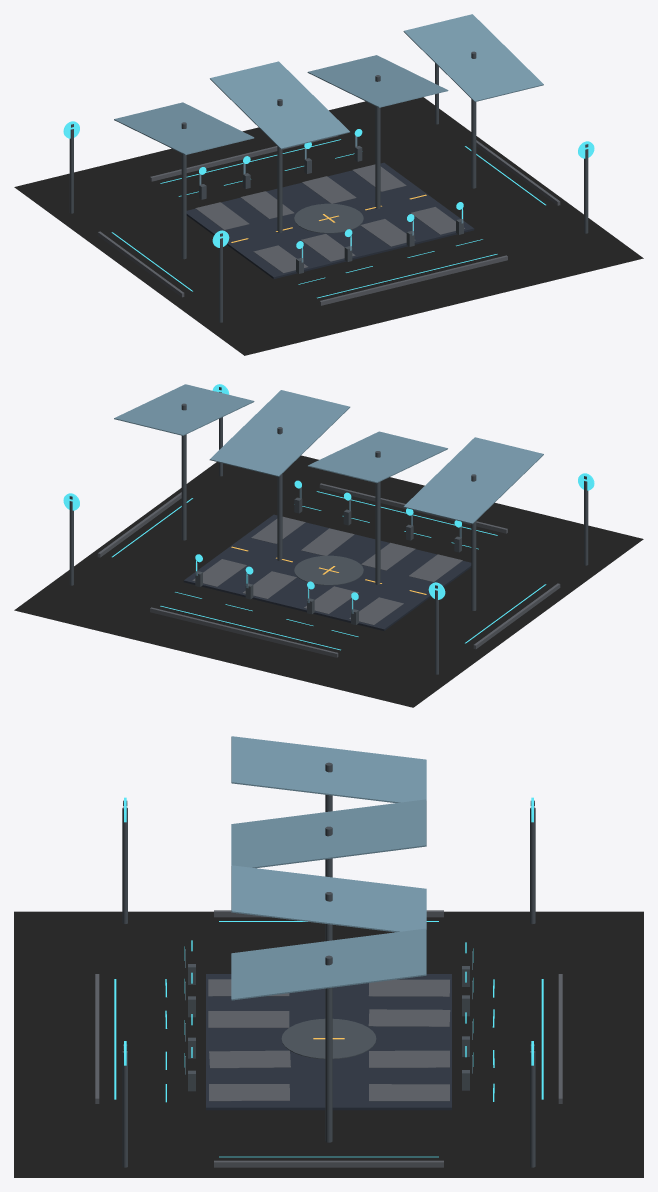
Rendered from shop_parking_lot.glb.
3 renders of one model, top to bottom at view 1: azimuth 30°, elevation 25°; view 2: azimuth 150°, elevation 25°; view 3: azimuth 270°, elevation 25°, orthographic. The views are drawn at different scales.
Visible parts, largest first — view 1: Base Plane, ParkingLot_CanopyPanel_0, ParkingLot_Slab, ParkingLot_Bay_0_0, ParkingLot_CanopyCol_0, ParkingLot_BayLine_0_0; view 2: Base Plane, ParkingLot_CanopyPanel_0, ParkingLot_Slab, ParkingLot_Bay_0_0, ParkingLot_CanopyCol_0, ParkingLot_BayLine_0_0; view 3: Base Plane, ParkingLot_CanopyPanel_0, ParkingLot_Slab, ParkingLot_Bay_0_0, ParkingLot_CanopyCol_0, ParkingLot_BayLine_0_0.
Part boxes in pixels (<box>): Base Plane: <box>14,97,643,355</box>; ParkingLot_CanopyPanel_0: <box>114,14,543,262</box>; ParkingLot_Slab: <box>186,162,474,278</box>; ParkingLot_Bay_0_0: <box>97,135,560,305</box>; ParkingLot_CanopyCol_0: <box>69,51,588,322</box>; ParkingLot_BayLine_0_0: <box>63,121,594,298</box>; Base Plane: <box>14,455,643,707</box>; ParkingLot_CanopyPanel_0: <box>114,384,543,613</box>; ParkingLot_Slab: <box>183,514,471,630</box>; ParkingLot_Bay_0_0: <box>97,483,560,657</box>; ParkingLot_CanopyCol_0: <box>69,387,588,674</box>; ParkingLot_BayLine_0_0: <box>63,384,594,650</box>; Base Plane: <box>14,911,643,1177</box>; ParkingLot_CanopyPanel_0: <box>185,736,472,1074</box>; ParkingLot_Slab: <box>206,974,451,1110</box>; ParkingLot_Bay_0_0: <box>95,910,562,1167</box>; ParkingLot_CanopyCol_0: <box>122,762,535,1167</box>; ParkingLot_BayLine_0_0: <box>114,797,543,1157</box>.
Bounding box in the file's own units: 17.93 × 5.96 × 17.93.
